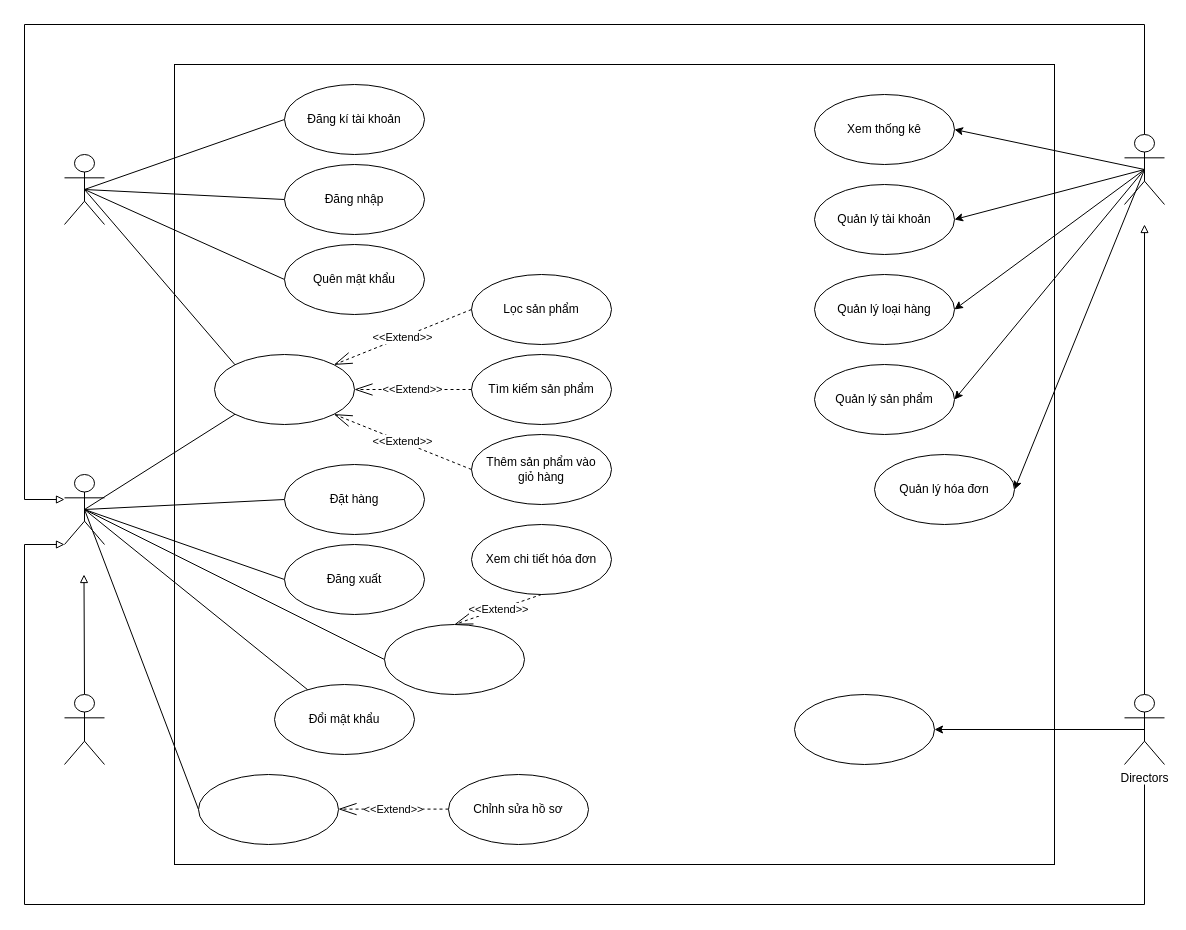
The diagram is 1186 pixels wide and 930 high, and some of its shapes have lost their labels. Each missing label, with the box of its shape:
Authenticated user: (64, 474, 104, 544)
Customers: (64, 694, 104, 764)
Guest: (64, 154, 104, 224)
Phân quyền cho các tài khoản: (794, 694, 934, 764)
Staffs: (1124, 134, 1164, 204)
Xem hóa đơn: (384, 624, 524, 694)
Xem hồ sơ: (198, 774, 338, 844)
Xem sản phẩm: (214, 354, 354, 424)
